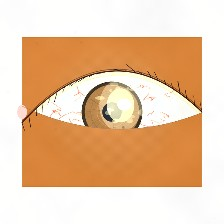corneal_ulcer: (93, 83, 148, 127)
